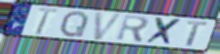Q: (58, 10, 90, 39)
R: (115, 14, 151, 44)
T: (34, 6, 60, 36), (185, 21, 209, 48)
V: (92, 11, 125, 41)
X: (144, 16, 184, 47)
